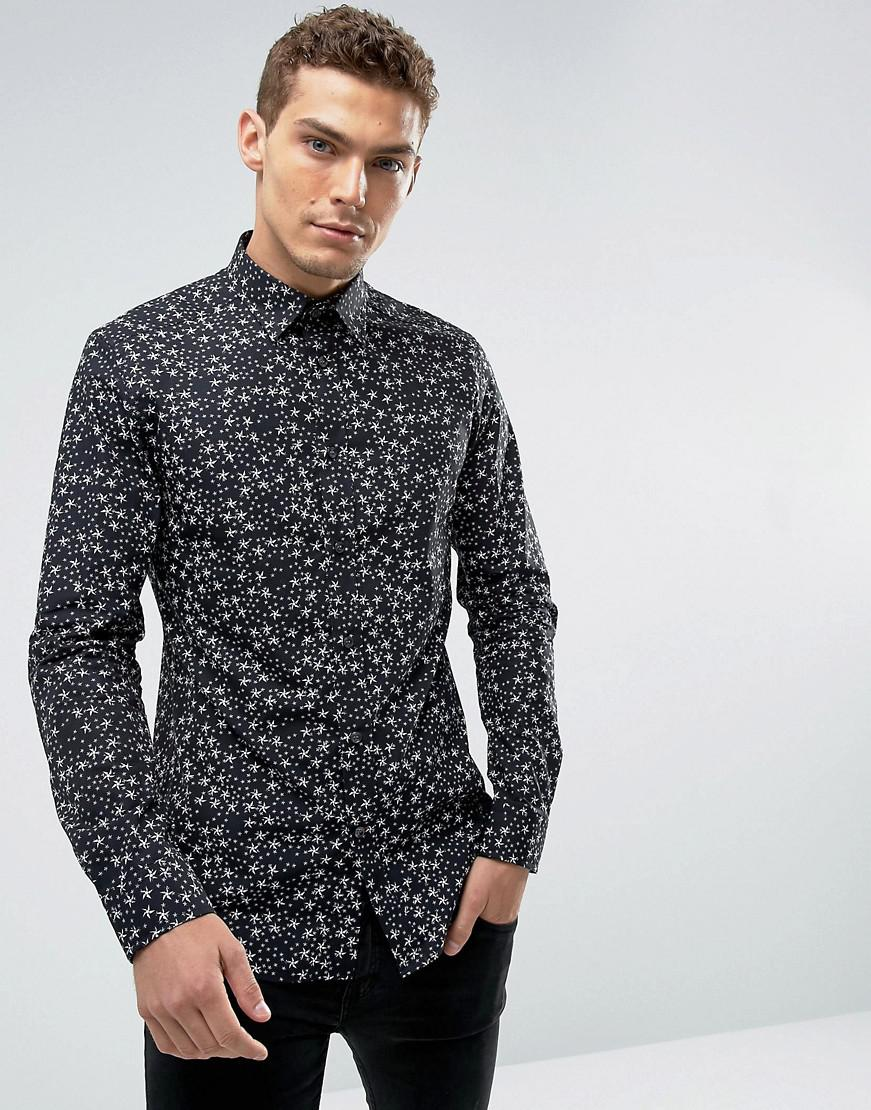teeshirt: (24, 225, 588, 1008)
